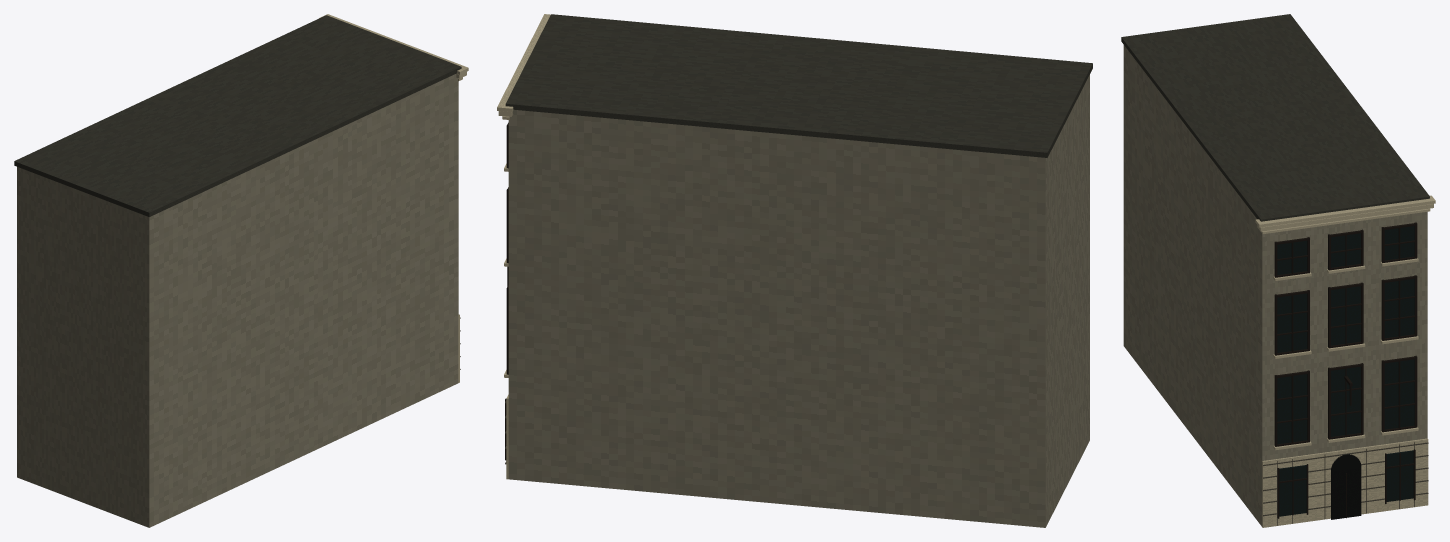
3 renders of one model, left to right at view 1: azimuth 30°, elevation 25°; view 2: azimuth 150°, elevation 25°; view 3: azimuth 270°, elevation 25°, orthographic. The views are drawn at different scales.
Parts seen in each view (by area): view 1: groote-concertzaal-bierstraat-0, groote-concertzaal-bierstraat-1, groote-concertzaal-bierstraat-2; view 2: groote-concertzaal-bierstraat-0, groote-concertzaal-bierstraat-1, groote-concertzaal-bierstraat-2, groote-concertzaal-bierstraat-5; view 3: groote-concertzaal-bierstraat-0, groote-concertzaal-bierstraat-1, groote-concertzaal-bierstraat-6, groote-concertzaal-bierstraat-2, groote-concertzaal-bierstraat-5, groote-concertzaal-bierstraat-4, groote-concertzaal-bierstraat-3.
Part boxes in pixels (x1,y1,x2,y2): groote-concertzaal-bierstraat-0: [17, 74, 458, 527]; groote-concertzaal-bierstraat-1: [14, 15, 461, 216]; groote-concertzaal-bierstraat-2: [319, 14, 468, 382]; groote-concertzaal-bierstraat-0: [508, 75, 1089, 527]; groote-concertzaal-bierstraat-1: [505, 14, 1092, 157]; groote-concertzaal-bierstraat-2: [497, 14, 550, 479]; groote-concertzaal-bierstraat-5: [505, 122, 508, 460]; groote-concertzaal-bierstraat-0: [1123, 45, 1427, 526]; groote-concertzaal-bierstraat-1: [1121, 14, 1429, 221]; groote-concertzaal-bierstraat-6: [1277, 226, 1414, 516]; groote-concertzaal-bierstraat-2: [1255, 195, 1435, 527]; groote-concertzaal-bierstraat-5: [1274, 222, 1417, 518]; groote-concertzaal-bierstraat-4: [1331, 454, 1361, 519]; groote-concertzaal-bierstraat-3: [1263, 442, 1428, 525].
Bounding box in the file's own units: 25.02 × 17.24 × 15.92.
Materials: 7 (7 with a texture image).
